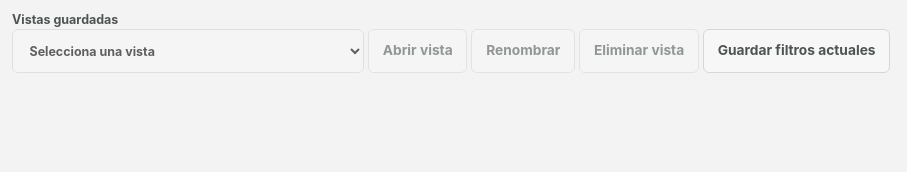
it: saved transaction views panel › defaults the selected current month to relative and opens it at use time
Later steps or results of the test are not shown.
Click the button "Guardar filtros actuales" at (797, 51), box [703,29,890,73]
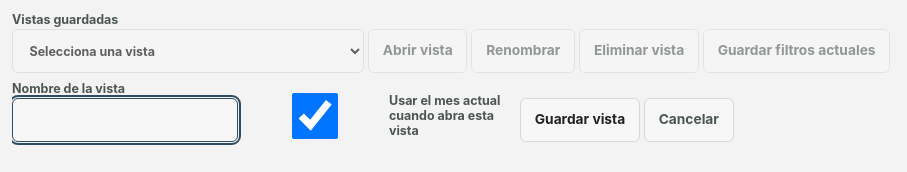
Check: the checkbox labelled "Usar el mes actual cuando abra esta vista" is checked, box [246,93,384,139]
